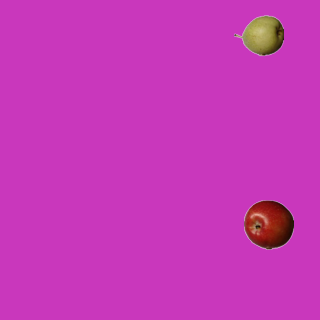Apple Braeburn: (243, 199, 293, 249)
Pear: (233, 10, 283, 60)
